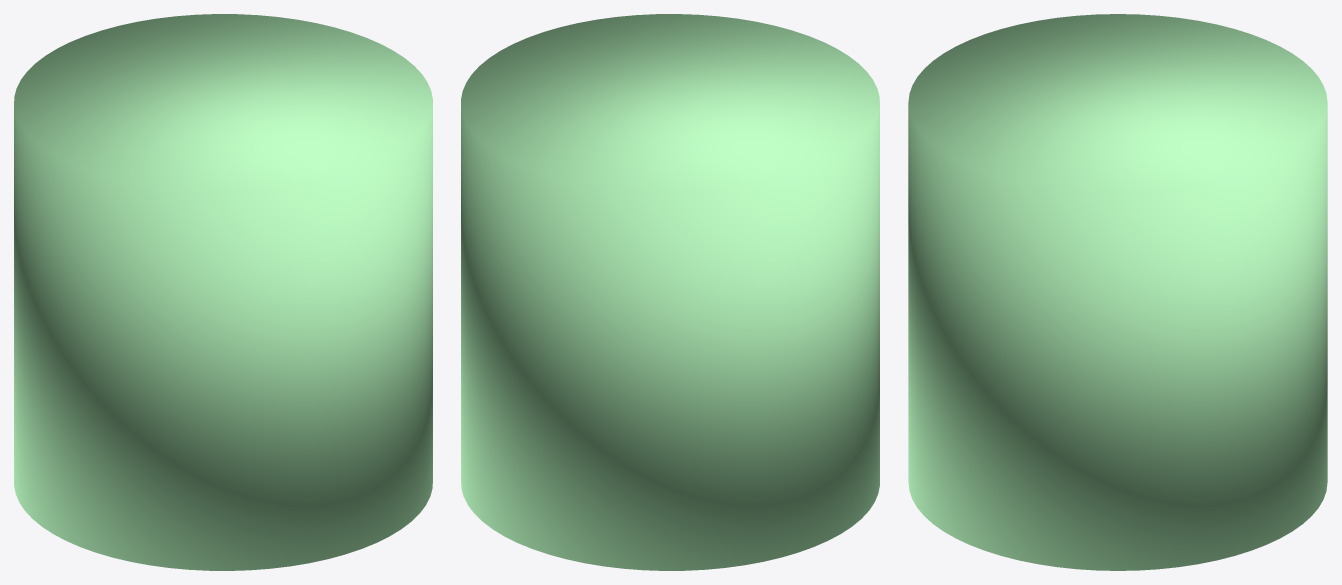
3 views of the same model, side by side, from view 1: azimuth 30°, elevation 25°; view 2: azimuth 150°, elevation 25°; view 3: azimuth 270°, elevation 25° (orthographic).
Parts seen in each view (by area): view 1: Cylinder; view 2: Cylinder; view 3: Cylinder.
Boxes of the visible parts, x1,y1,x2,y2 form: Cylinder: [14, 14, 432, 570]; Cylinder: [461, 14, 879, 570]; Cylinder: [908, 14, 1327, 570].
Size of the model in its own units: 2 by 2 by 2.
Materials: 1 (1 with a texture image).
